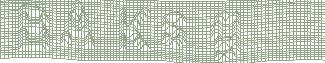A: (59, 1, 98, 51)
B: (16, 3, 52, 54)
K: (116, 4, 153, 53)
g: (209, 11, 241, 62)
s: (159, 10, 188, 49)
